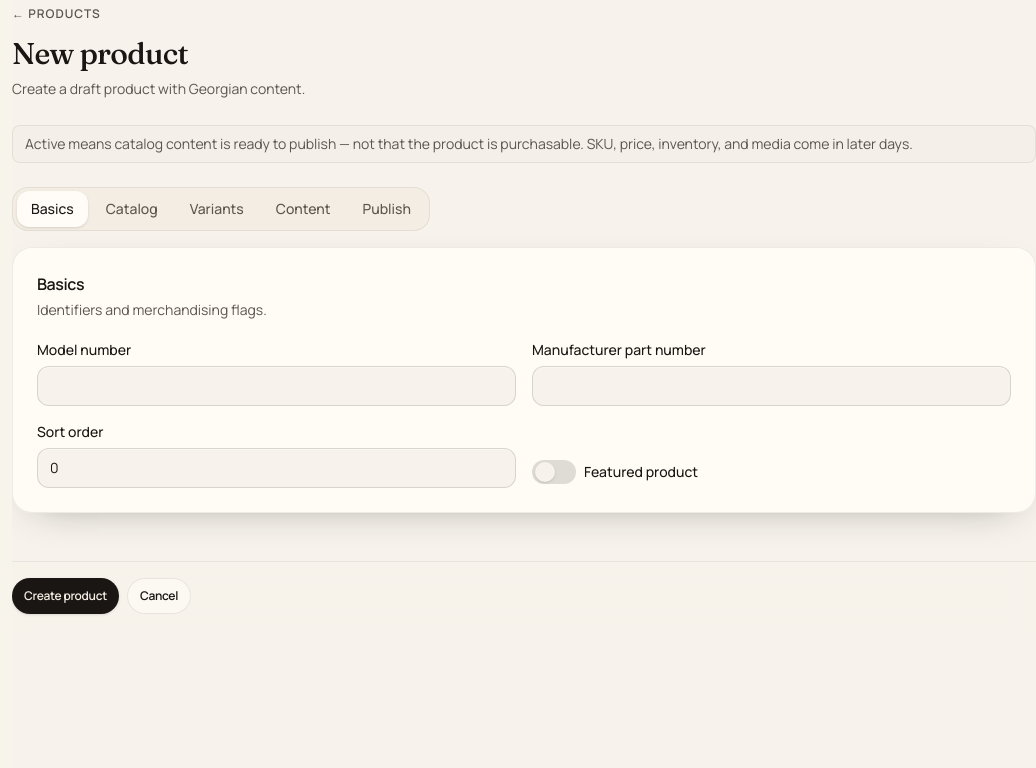
Test: ProductFormPage › requires Georgian name before submit
Expected: the field labelled "Model number" is shown, [37,366,516,406]
Click the button "Create product": (66,596) [12,578,119,614]
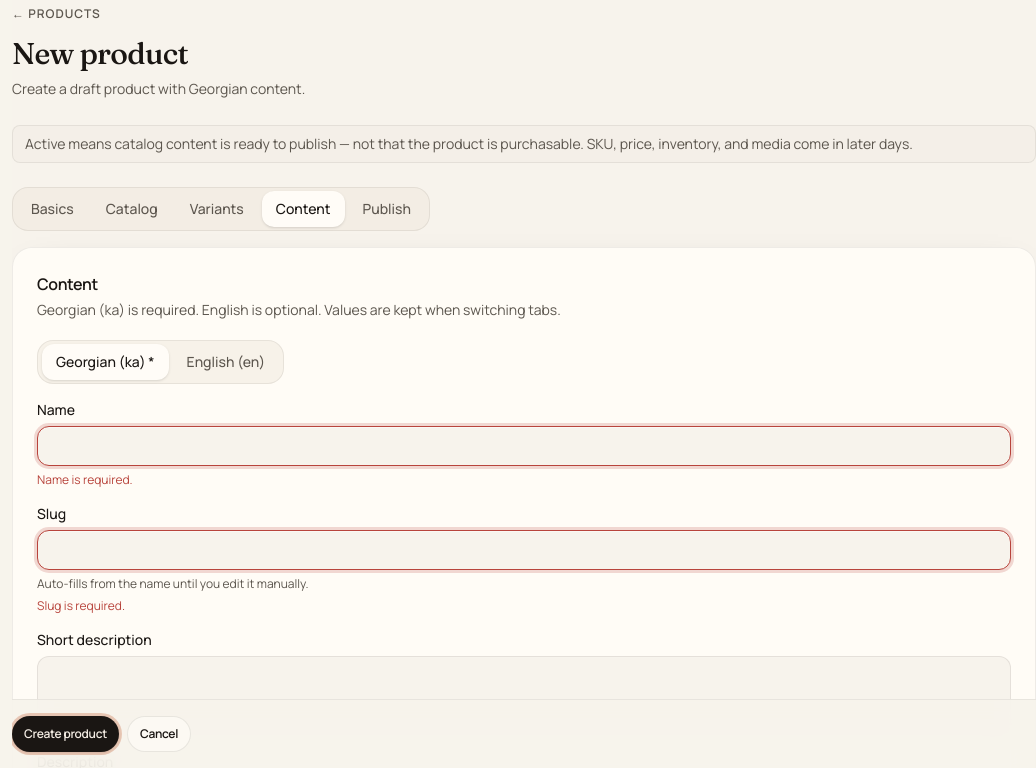
Result: the text "Name is required." is shown at [37,471,133,488]
